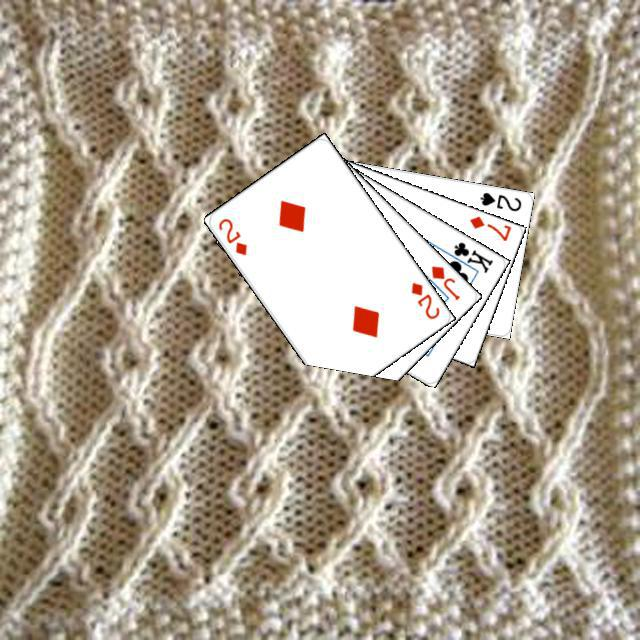2d: (213, 213, 249, 257), (406, 277, 441, 321)
2s: (475, 187, 523, 213)
7d: (464, 211, 512, 243)
Jd: (426, 260, 461, 302)
Kc: (440, 237, 495, 275)
